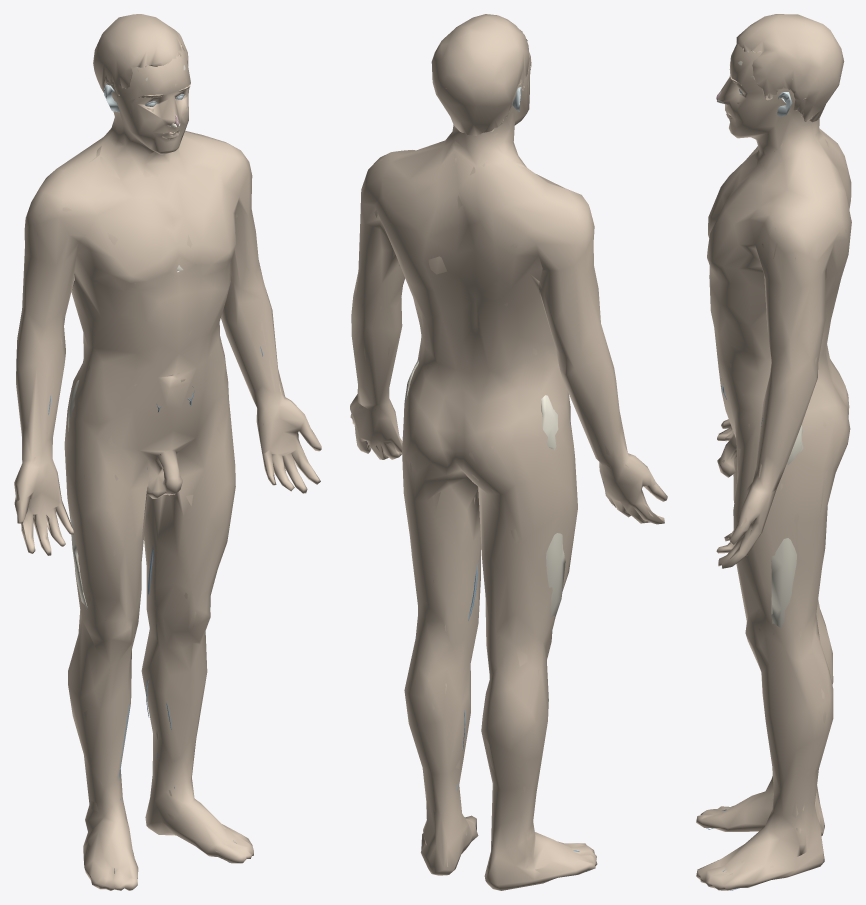
The model's file is male.glb.
3 views of the same model, side by side, from view 1: azimuth 30°, elevation 25°; view 2: azimuth 150°, elevation 25°; view 3: azimuth 270°, elevation 25° (orthographic). The views are drawn at different scales.
Visible parts, largest first — view 1: skin, hair_of_head; view 2: skin, hair_of_head, right_iliotibial_tract; view 3: skin, hair_of_head, left_iliotibial_tract.
Part boxes in pixels (x1,y1,x2,y2): skin: (14, 47, 321, 890); hair_of_head: (93, 14, 188, 97); skin: (350, 52, 667, 890); hair_of_head: (431, 14, 529, 135); right_iliotibial_tract: (541, 395, 565, 618); skin: (696, 44, 851, 890); hair_of_head: (736, 14, 844, 122); left_iliotibial_tract: (771, 425, 803, 627).
Bounding box in the file's own units: 0.6164 × 1.6 × 0.2705.
